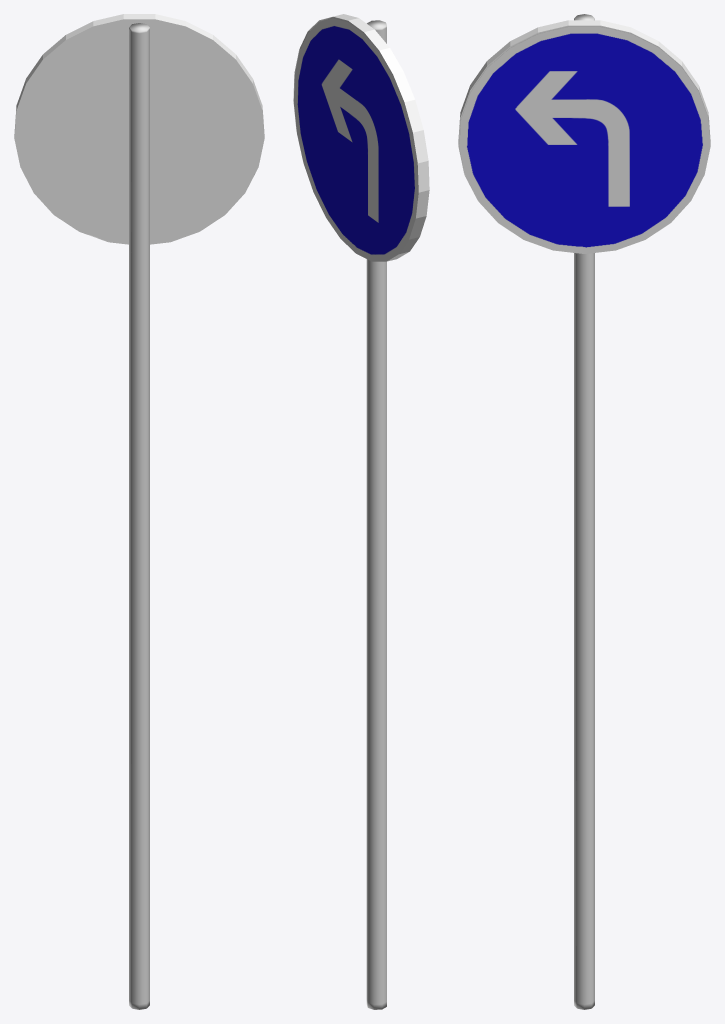
File: sign_only_left_turn.glb
3 views of the same model, side by side, from view 1: azimuth 90°, elevation 25°; view 2: azimuth 210°, elevation 25°; view 3: azimuth 270°, elevation 25° (orthographic).
Parts seen in each view (by area): view 1: only_left_turn, pole; view 2: only_left_turn, pole; view 3: only_left_turn, pole.
Part boxes in pixels (box(x1,y1,x2,y2)): only_left_turn: box(14, 14, 264, 244); pole: box(129, 23, 149, 1009); only_left_turn: box(293, 14, 429, 261); pole: box(366, 20, 386, 1009); only_left_turn: box(458, 20, 710, 253); pole: box(574, 14, 594, 1009).
Size of the model in its own units: 0.0826 by 2.6 by 0.6.
Materials: 2 (1 with a texture image).
